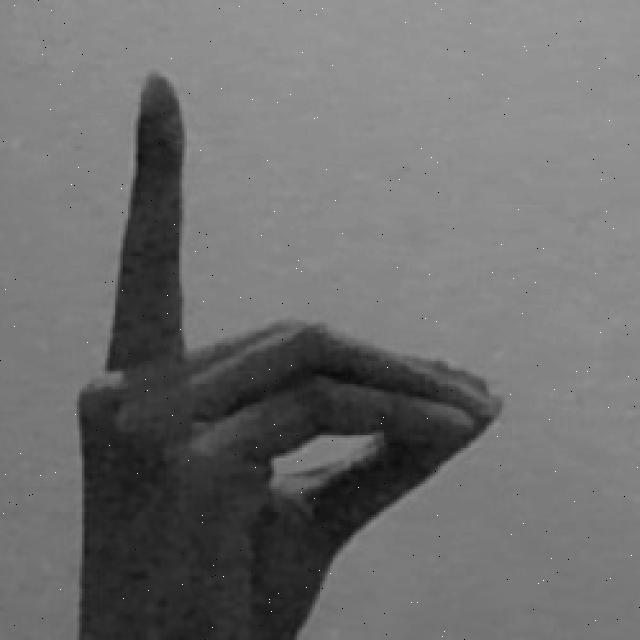D: (72, 69, 510, 640)
